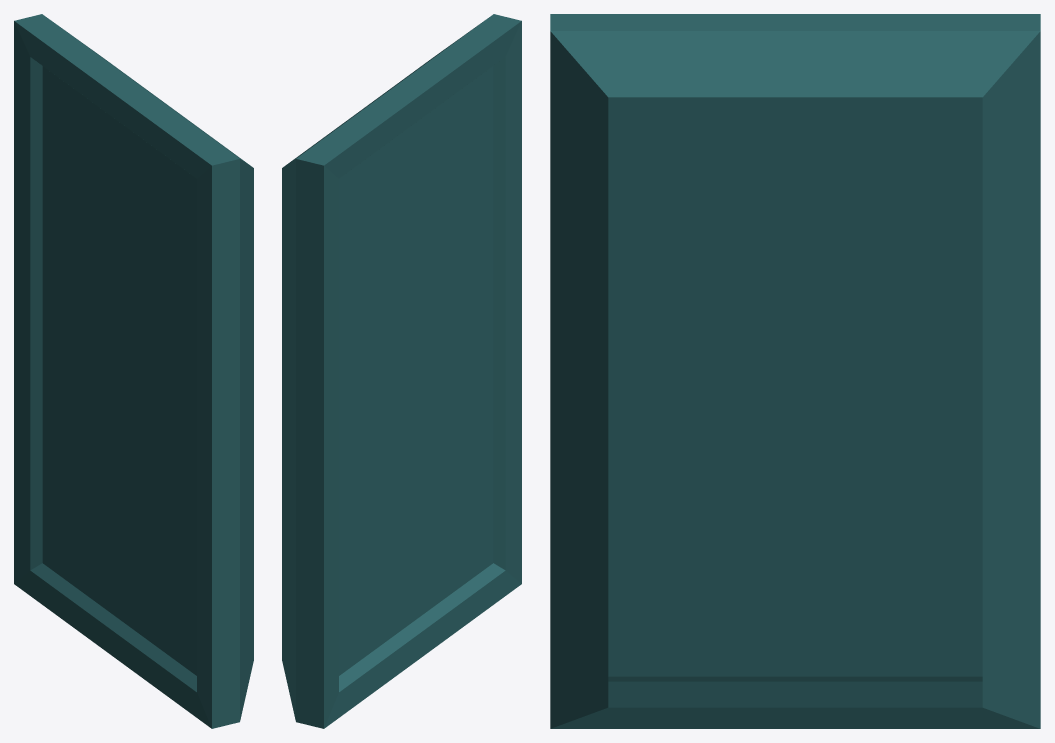
The model's file is PodKeyPad.fbx.
3 renders of one model, left to right at view 1: azimuth 30°, elevation 25°; view 2: azimuth 150°, elevation 25°; view 3: azimuth 270°, elevation 25°, orthographic. The views are drawn at different scales.
Parts seen in each view (by area): view 1: PodKeyPad; view 2: PodKeyPad; view 3: PodKeyPad.
Boxes of the visible parts, box(x1,y1,x2,y2) form: PodKeyPad: box(14, 14, 253, 728); PodKeyPad: box(282, 14, 521, 728); PodKeyPad: box(550, 14, 1040, 728).
Bounding box in the file's own units: 11.01 × 90.84 × 57.84.
